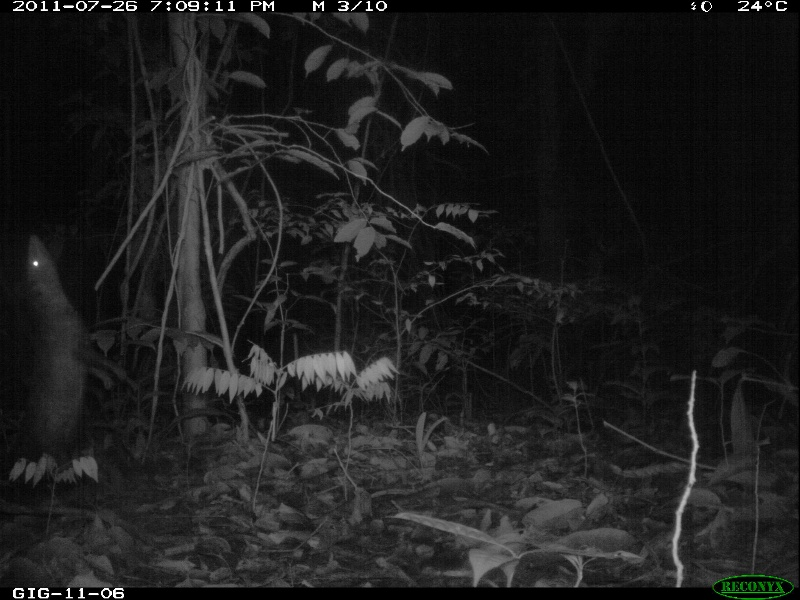opossum: (15, 224, 105, 481)
